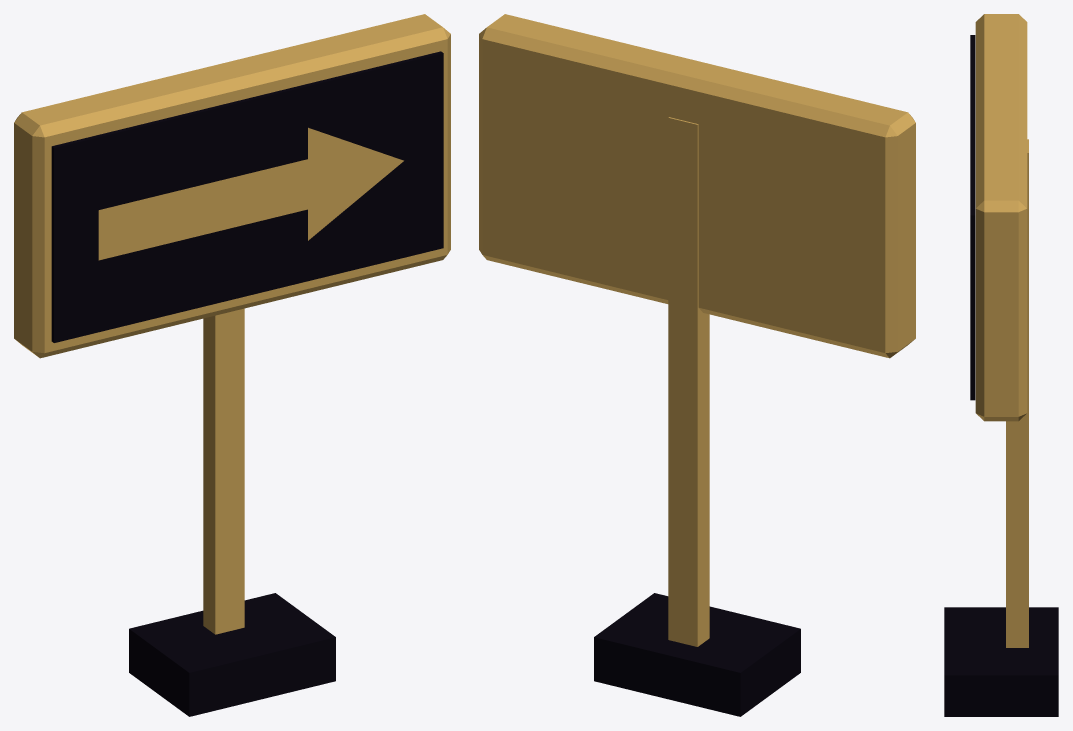
Rendered from road_sign_neon6.fbx.
3 views of the same model, side by side, from view 1: azimuth 30°, elevation 25°; view 2: azimuth 150°, elevation 25°; view 3: azimuth 270°, elevation 25° (orthographic). The views are drawn at different scales.
Visible parts, largest first — view 1: Part_2, Part_1, Part_0; view 2: Part_1, Part_0; view 3: Part_1, Part_0.
Boxes of the visible parts, x1=… form: Part_2: x1=45, y1=39, x2=447, y2=342; Part_1: x1=14, y1=14, x2=450, y2=634; Part_0: x1=129, y1=313, x2=335, y2=716; Part_1: x1=479, y1=14, x2=915, y2=638; Part_0: x1=483, y1=118, x2=872, y2=716; Part_1: x1=970, y1=14, x2=1028, y2=647; Part_0: x1=944, y1=421, x2=1058, y2=716.
Size of the model in its own units: 2.4 by 3.33 by 0.6.
